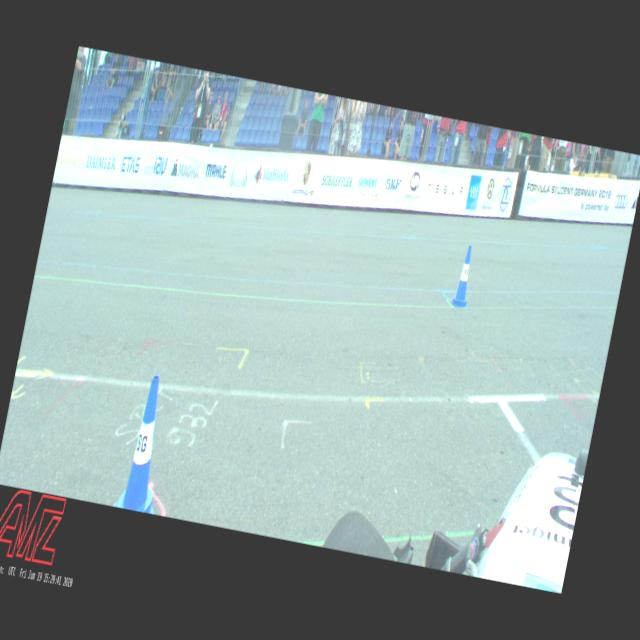blue_cone: (114, 372, 180, 514), (450, 245, 479, 308)
